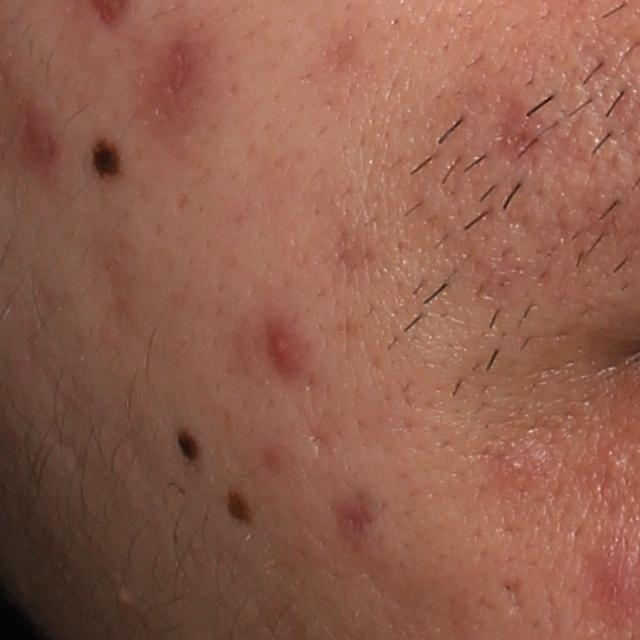atrophic_scar: (145, 29, 216, 161), (492, 81, 550, 170), (499, 575, 531, 623), (299, 424, 336, 463)
nevus: (90, 137, 126, 183), (221, 484, 250, 526), (174, 427, 204, 465)
papule: (264, 325, 302, 375)
